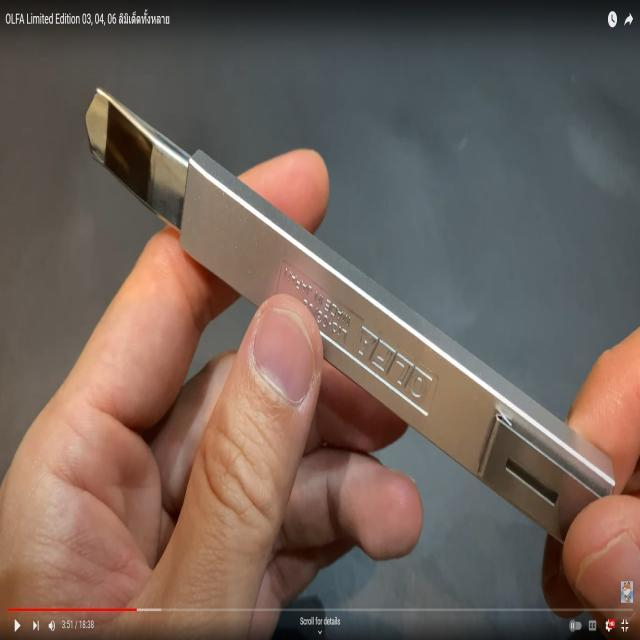cutter: (1, 50, 640, 640)
